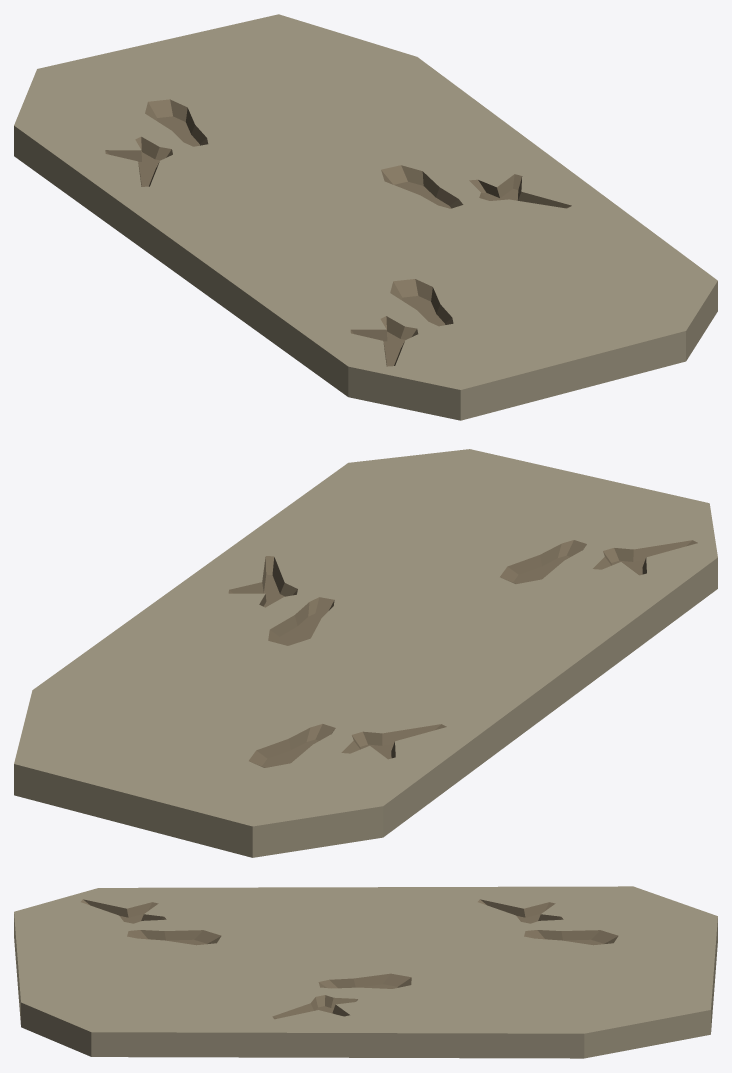
File: pterosaur-manus-pes-trackway.glb
The picture shows the model from 3 angles, top to bottom: view 1: azimuth 30°, elevation 25°; view 2: azimuth 150°, elevation 25°; view 3: azimuth 270°, elevation 25°; orthographic projection. The views are drawn at different scales.
Parts seen in each view (by area): view 1: solid-sediment-with-six-negative-impressions; view 2: solid-sediment-with-six-negative-impressions; view 3: solid-sediment-with-six-negative-impressions.
Part boxes in pixels (x1,y1,x2,y2): solid-sediment-with-six-negative-impressions: (14,14,717,420); solid-sediment-with-six-negative-impressions: (14,449,717,857); solid-sediment-with-six-negative-impressions: (14,886,717,1058).
Bounding box in the file's own units: 0.1782 × 0.014 × 0.36.
